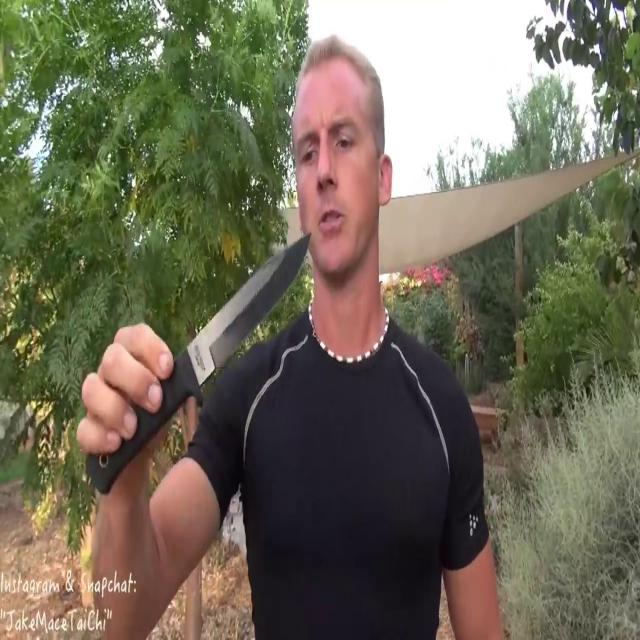knife: (79, 224, 322, 485)
